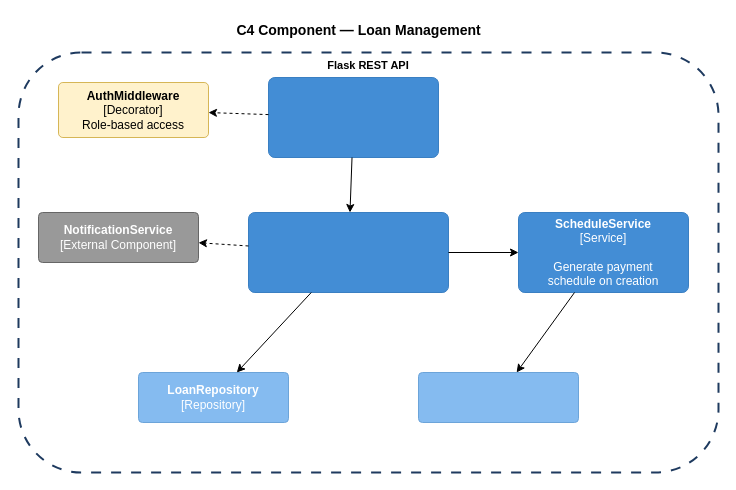
This 736x490 diagram has some shape labels left out. Here are the shapes that lost their labels. From the top down, the centre of each, then its label:
At (353,117): "LoanController [Blueprint] list, get, create, update loans".
At (348,252): "LoanService [Service] Loan CRUD, validation, borrower restrictions".
At (498,397): "PaymentRepository [Repository]".
